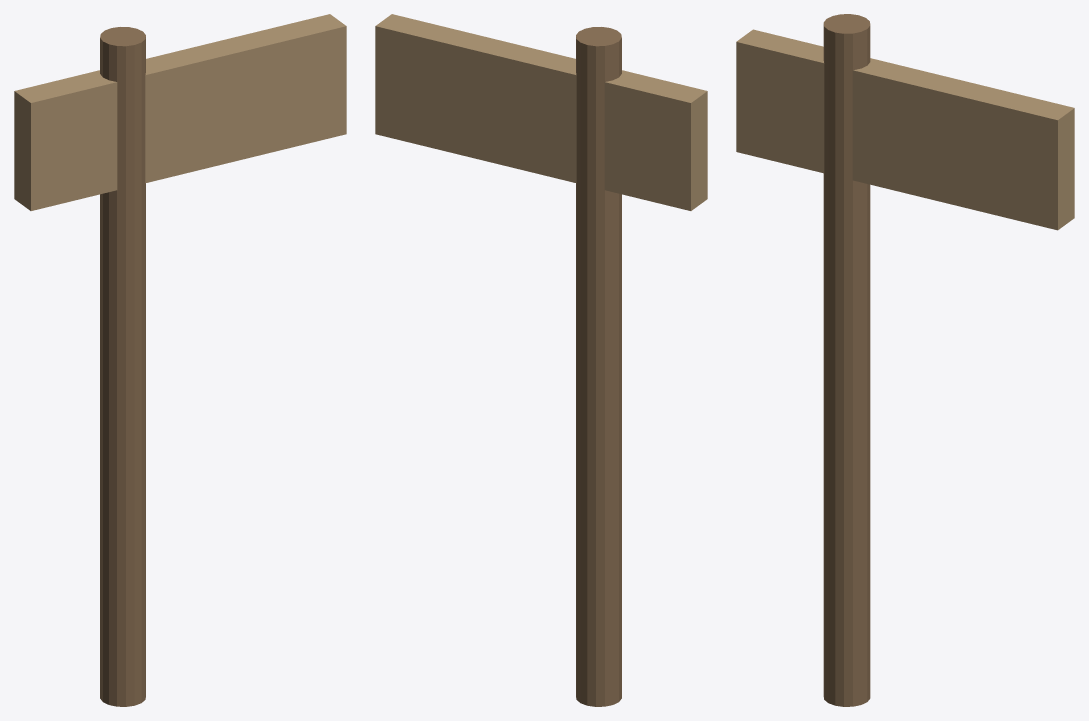
Rendered from wooden-signpost.glb.
3 views of the same model, side by side, from view 1: azimuth 30°, elevation 25°; view 2: azimuth 150°, elevation 25°; view 3: azimuth 330°, elevation 25° (orthographic).
Parts seen in each view (by area): view 1: wooden-signpost; view 2: wooden-signpost; view 3: wooden-signpost.
Boxes of the visible parts, x1=… form: wooden-signpost: x1=14, y1=14, x2=346, y2=706; wooden-signpost: x1=375, y1=14, x2=707, y2=706; wooden-signpost: x1=736, y1=14, x2=1074, y2=706.
Size of the model in its own units: 0.55 by 1.1 by 0.07.
